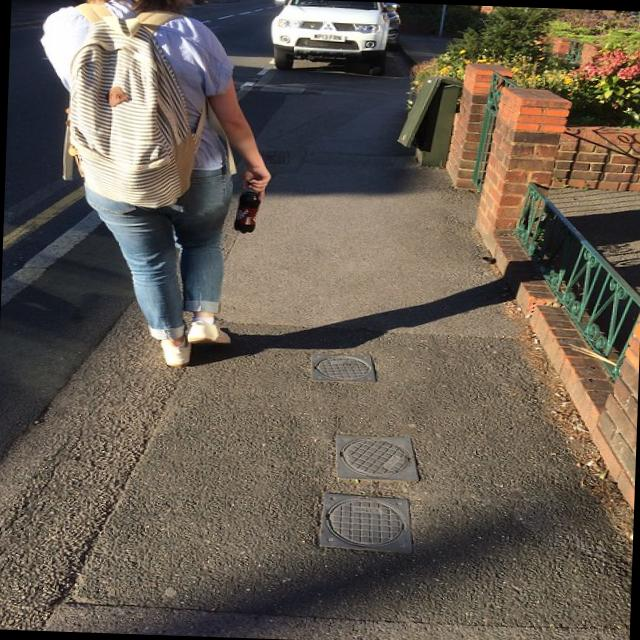Trash: (230, 176, 278, 244)
